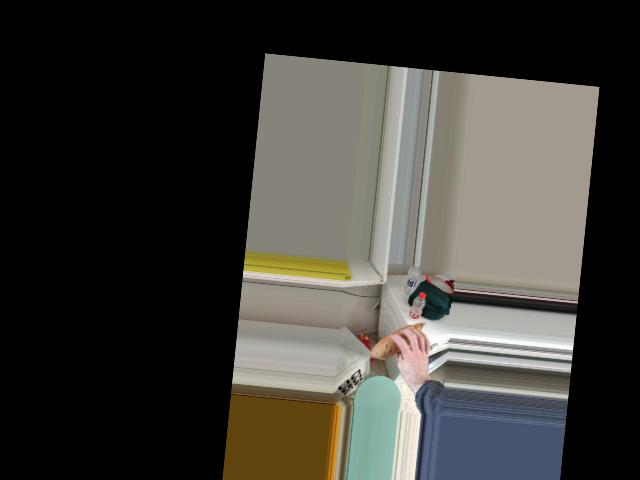sweet_potato: (374, 319, 429, 362)
